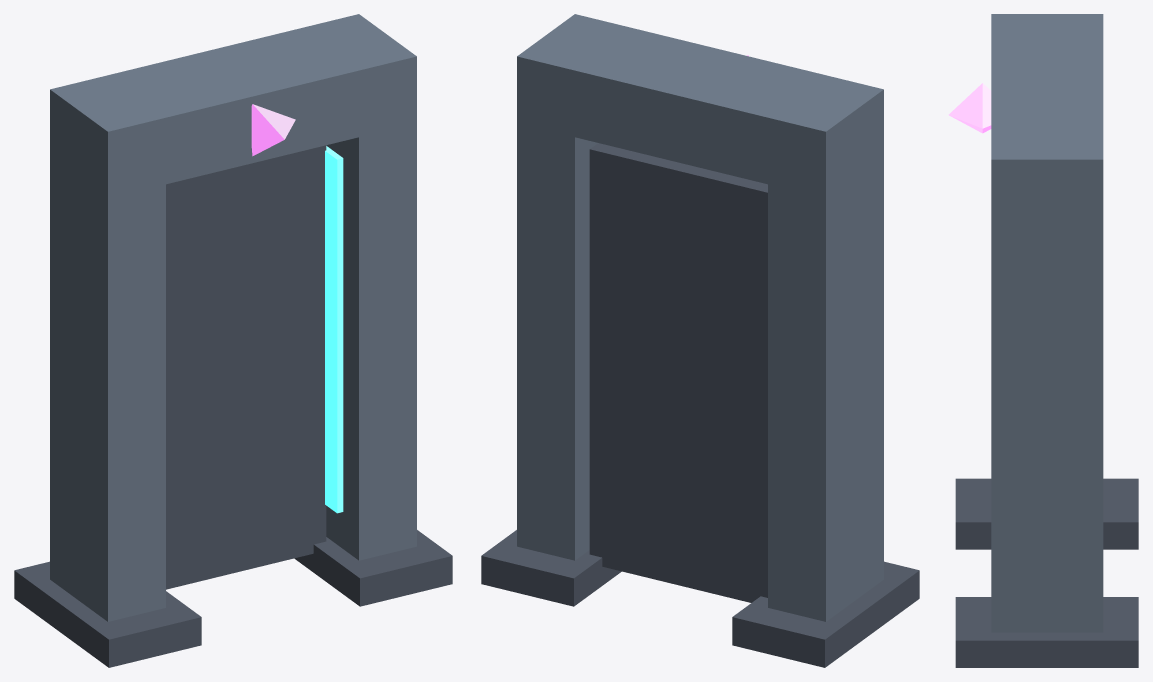
Rendered from AXM-DOORWAY-001_LOD2.glb.
3 views of the same model, side by side, from view 1: azimuth 30°, elevation 25°; view 2: azimuth 150°, elevation 25°; view 3: azimuth 270°, elevation 25° (orthographic). The views are drawn at different scales.
Visible parts, largest first — view 1: door, column__l00, top_beam, column__l01, foot__l00, energy_strip__l01, foot__l01, header_core; view 2: door, column__l00, top_beam, column__l01, foot__l00, foot__l01; view 3: column__l01, top_beam, foot__l01, foot__l00, header_core.
Boxes of the visible parts, x1,y1,x2,y2 form: door: (166,145,326,589); column__l00: (50,123,165,621); top_beam: (50,14,416,198); column__l01: (326,90,416,560); foot__l00: (14,561,201,667); energy_strip__l01: (325,146,343,513); foot__l01: (294,530,452,606); header_core: (251,104,295,156); door: (589,143,767,602); column__l00: (768,123,883,621); top_beam: (517,14,883,196); column__l01: (517,90,597,560); foot__l00: (732,561,919,667); foot__l01: (481,530,621,606); column__l01: (991,191,1103,632); top_beam: (991,14,1103,223); foot__l01: (955,597,1138,667); foot__l00: (955,478,1138,549); header_core: (948,83,991,133).
Size of the model in its own units: 1.78 by 2.57 by 0.885.
